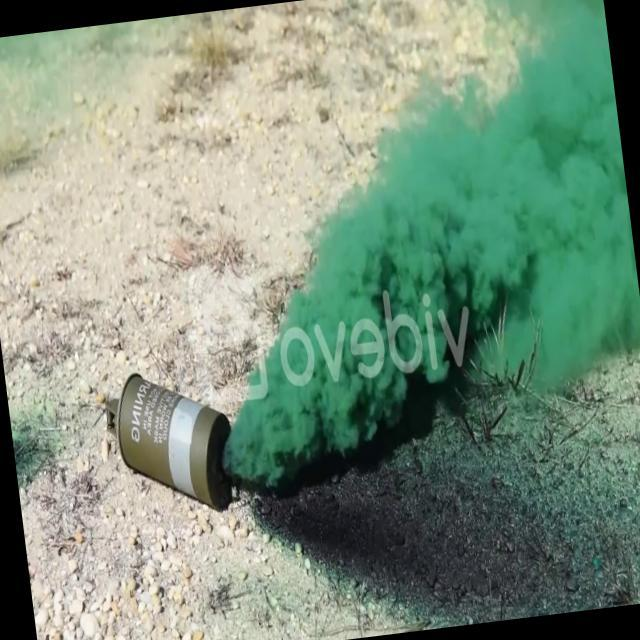grenade: (105, 350, 244, 528)
